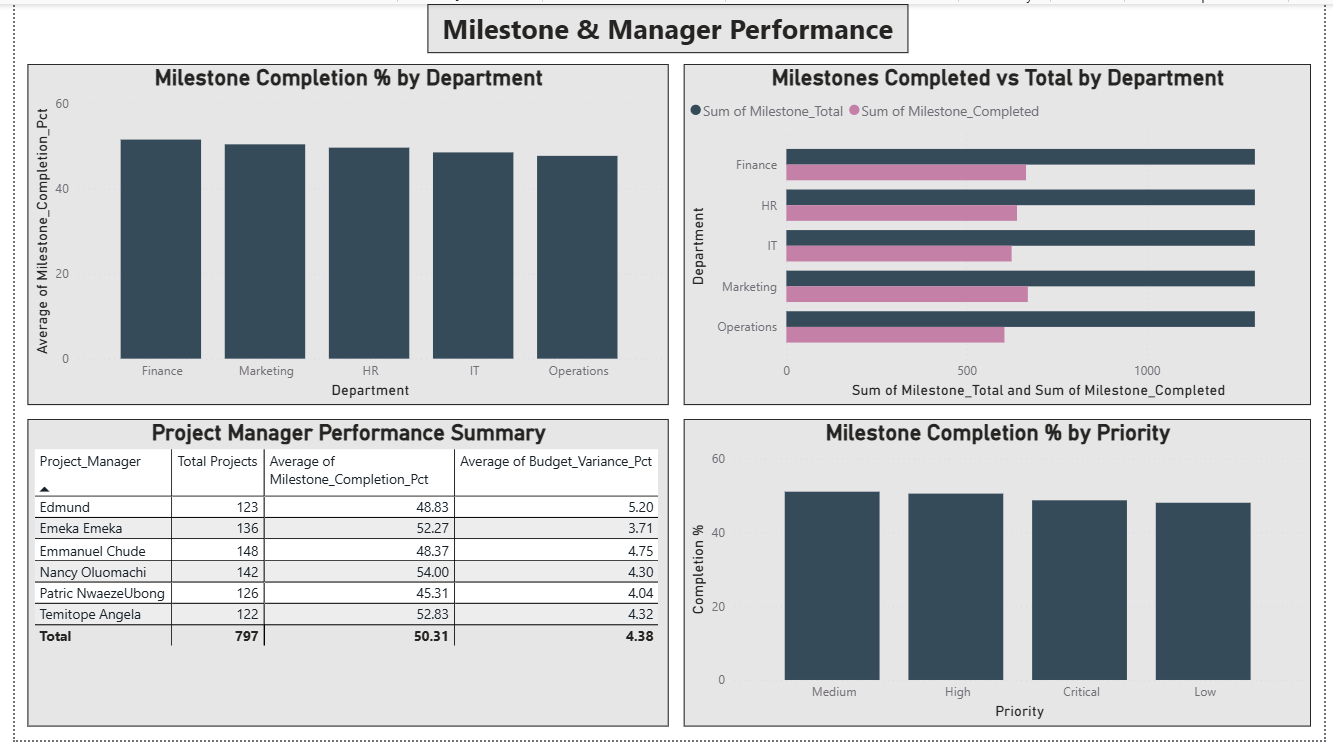

Layout of this report page (visuals, bound fields, positions):
{"tool":"powerbi","page":{"name":"Milestone & Manager Performance","canvas":[1280,720],"ordinal":3},"visuals":[{"type":"textbox","box":[403.4,0,470.7,48],"z":0},{"type":"clusteredColumnChart","title":"Milestone Completion % by Department","fields":{"Category":["project_portfolio_clean.Department"],"Y":["Avg(project_portfolio_clean.Milestone_Completion_Pct)"]},"box":[12.3,59,627.1,333.4],"z":1000},{"type":"clusteredBarChart","title":"Milestones Completed vs Total by Department","fields":{"Category":["project_portfolio_clean.Department"],"Y":["Sum(project_portfolio_clean.Milestone_Total)","Sum(project_portfolio_clean.Milestone_Completed)"]},"box":[654.5,59,613.4,333.4],"z":2000},{"type":"tableEx","title":"Project Manager Performance Summary","fields":{"Values":["project_portfolio_clean.Project_Manager","CountNonNull(project_portfolio_clean.Project_ID)","Avg(project_portfolio_clean.Milestone_Completion_Pct)","Avg(project_portfolio_clean.Budget_Variance_Pct)"]},"box":[12.3,406.2,627.1,300.5],"z":3000},{"type":"clusteredColumnChart","title":"Milestone Completion % by Priority","fields":{"Category":["project_portfolio_clean.Priority"],"Y":["Avg(project_portfolio_clean.Milestone_Completion_Pct)"]},"box":[654.5,406.2,613.4,300.5],"z":4000}]}

Visuals, with their boxes in screenshot pixels (x1, y1, x2, y2), scaled from the page's 1280x720 canvas onto the 1333x745 screenshot:
textbox: select_region(420, 0, 910, 50)
"Milestone Completion % by Department" clusteredColumnChart: select_region(13, 61, 666, 406)
"Milestones Completed vs Total by Department" clusteredBarChart: select_region(682, 61, 1320, 406)
"Project Manager Performance Summary" tableEx: select_region(13, 420, 666, 731)
"Milestone Completion % by Priority" clusteredColumnChart: select_region(682, 420, 1320, 731)
